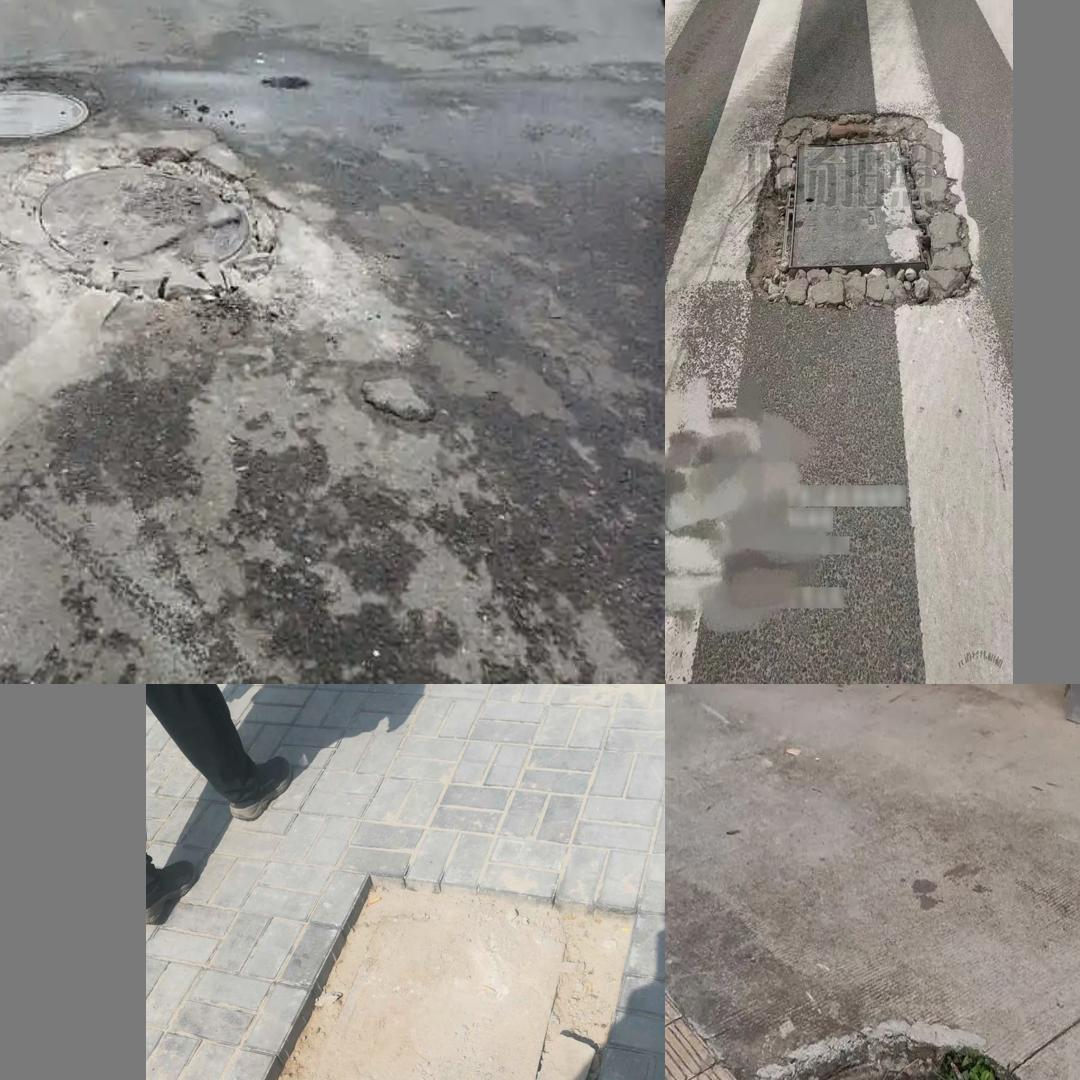circle: (0, 131, 355, 377), (799, 381, 1080, 684), (203, 891, 636, 1080), (708, 1011, 1080, 1080)
